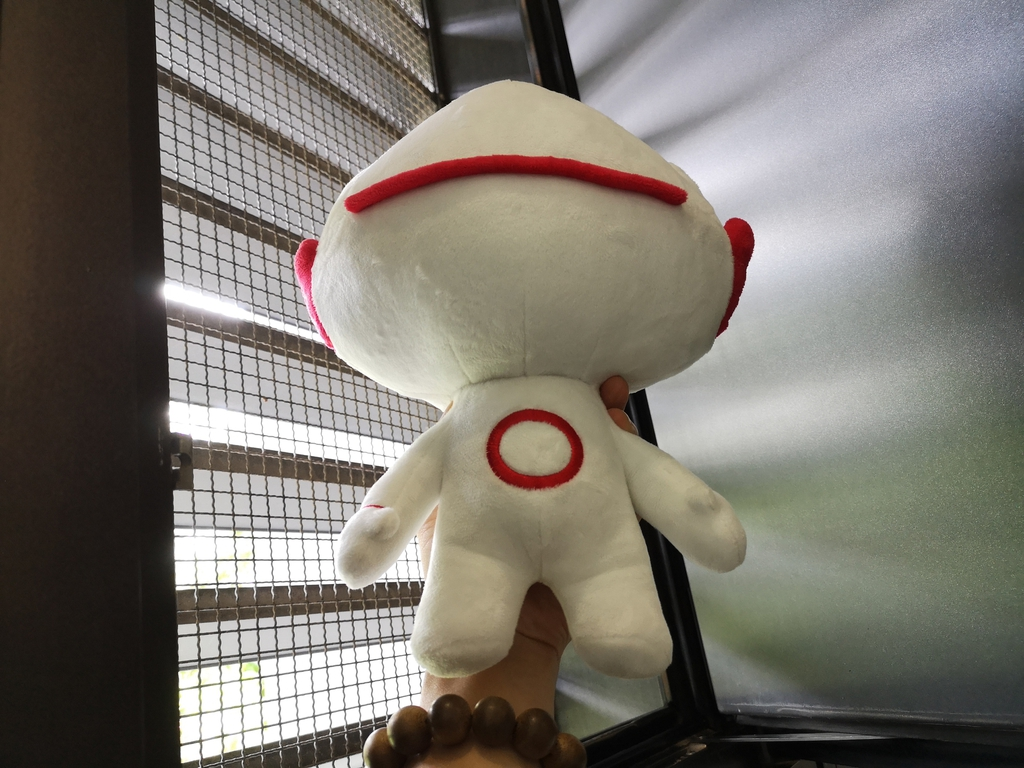yunbao: (303, 63, 753, 687)
